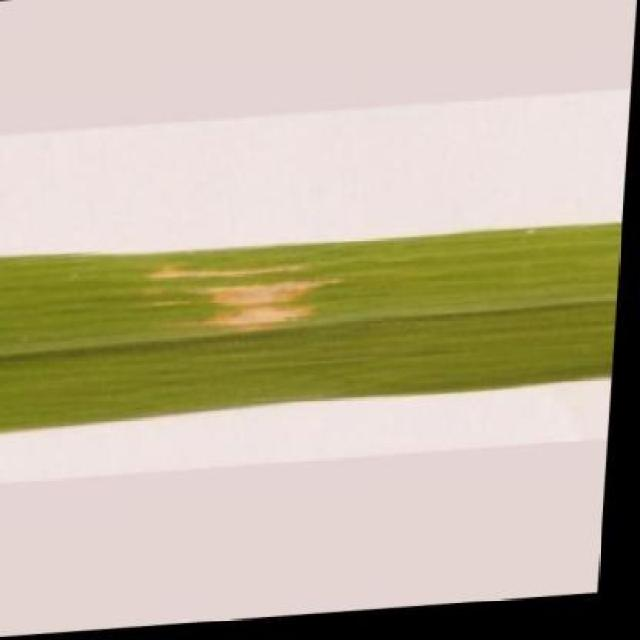Brown_Spot: (0, 215, 628, 438)
